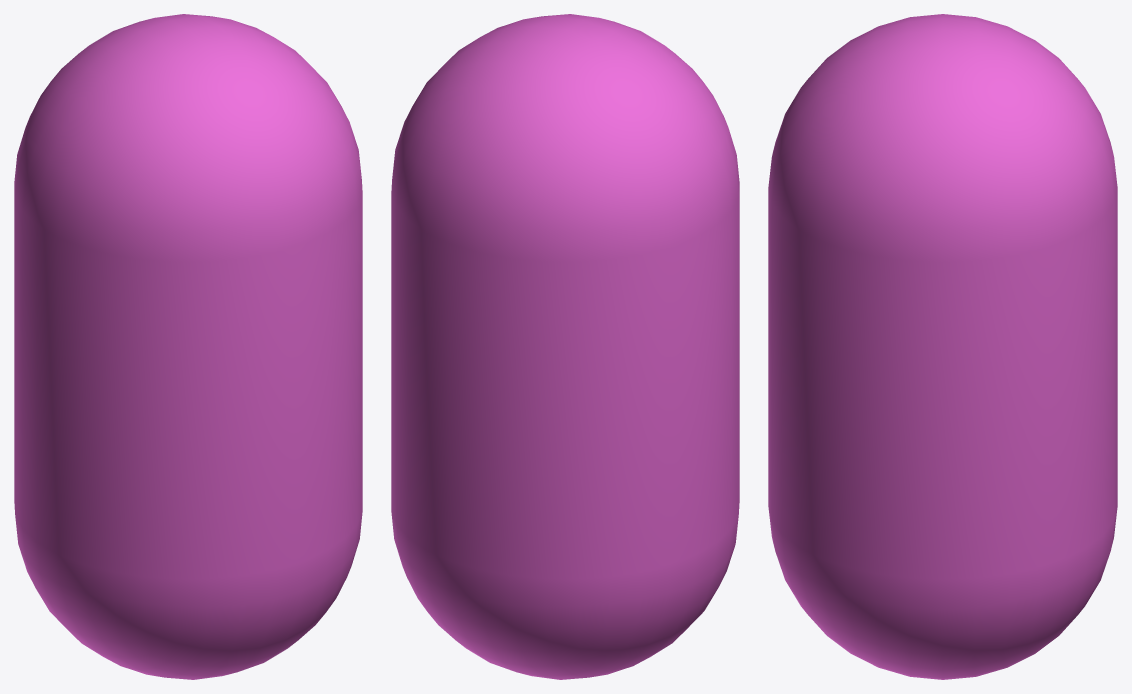
The model's file is BigGold.fbx.
3 renders of one model, left to right at view 1: azimuth 30°, elevation 25°; view 2: azimuth 150°, elevation 25°; view 3: azimuth 270°, elevation 25°, orthographic.
Parts seen in each view (by area): view 1: BigGold; view 2: BigGold; view 3: BigGold.
Part boxes in pixels (<box>): BigGold: <box>14,14,362,679</box>; BigGold: <box>391,14,739,679</box>; BigGold: <box>768,14,1117,679</box>.
Size of the model in its own units: 100 by 200 by 100.
